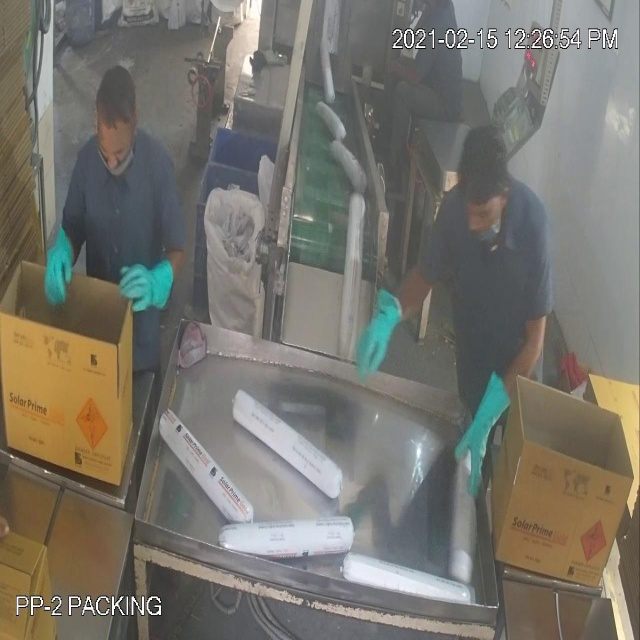Guantes: (447, 373, 517, 507), (109, 243, 180, 333), (349, 287, 400, 384), (36, 220, 76, 307)
Sin_guantes: (376, 46, 426, 96)
